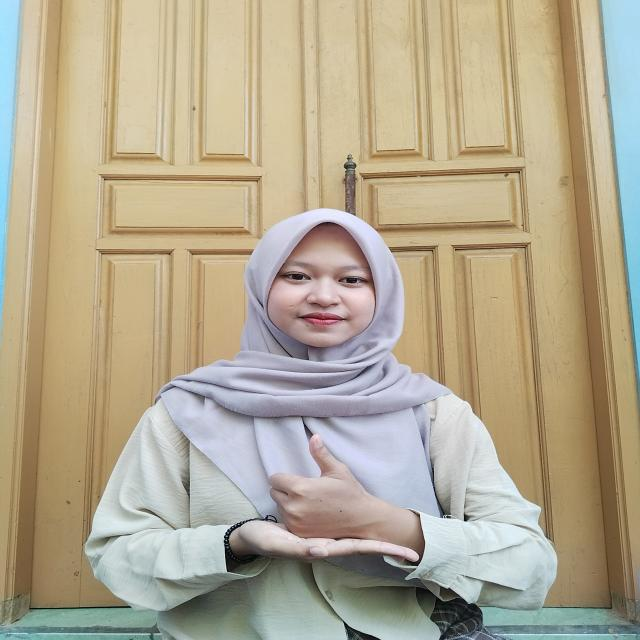cantik: (225, 417, 428, 586)
